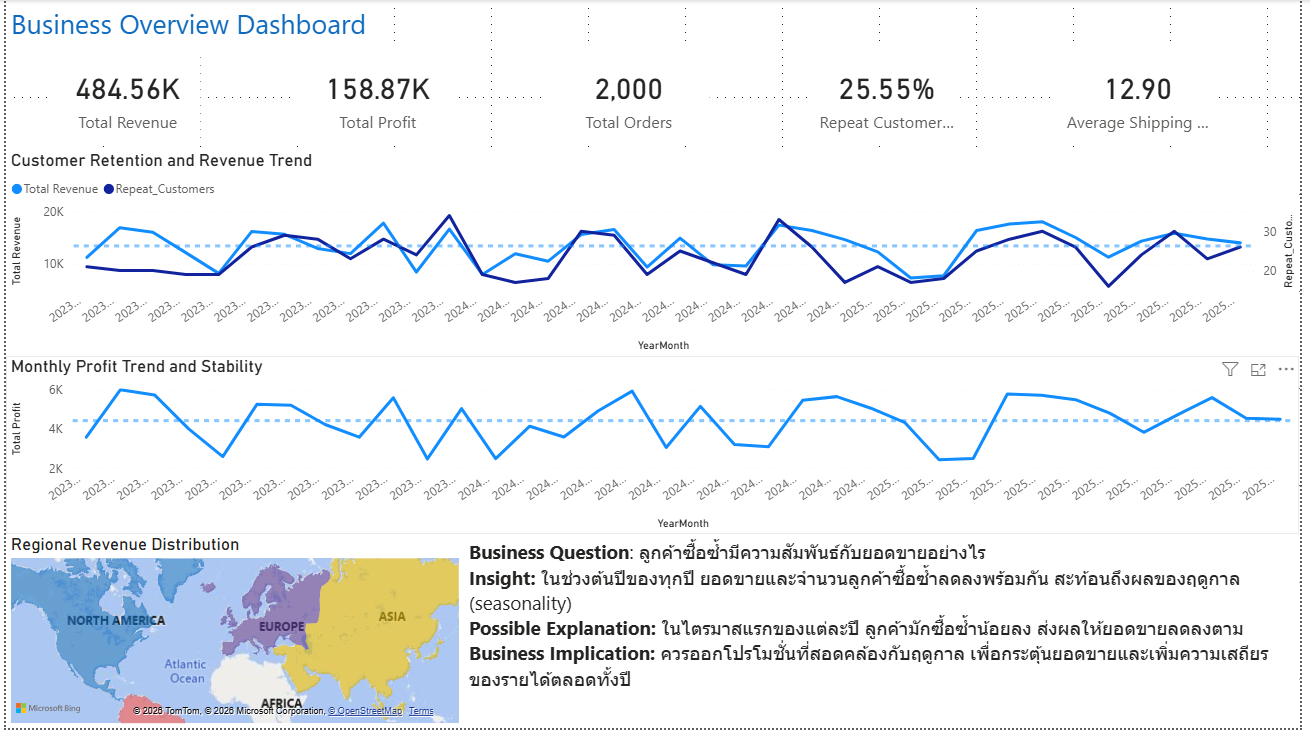

The page's visual inventory and layout, read from the dashboard file:
{"tool":"powerbi","page":{"name":"Business Overview Dashboard","canvas":[1280,720],"ordinal":0},"visuals":[{"type":"card","fields":{"Values":["Measure Table.Total Revenue"]},"box":[48,48,144,96],"z":0},{"type":"lineChart","title":"Customer Retention and Revenue Trend","fields":{"Category":["Dim_Date.YearMonth"],"Y":["Measure Table.Total Revenue"],"Y2":["Measure Table.Repeat_Customers"]},"box":[0,148.3,1279.6,203.8],"z":1000},{"type":"lineChart","title":"Monthly Profit Trend and Stability","fields":{"Category":["Dim_Date.YearMonth"],"Y":["Measure Table.Total Profit"]},"box":[0,352.2,1279.6,176.1],"z":2000},{"type":"filledMap","title":"Regional Revenue Distribution","fields":{"Category":["Dim_Region.Region"]},"box":[0,528.2,453.5,191.8],"z":3000},{"type":"textbox","box":[0,0,365.4,54.3],"z":4000},{"type":"card","fields":{"Values":["Measure Table.Total Profit"]},"box":[288,48,160,96],"z":5000},{"type":"card","fields":{"Values":["Measure Table.Total Orders"]},"box":[536,48,160,96],"z":6000},{"type":"card","fields":{"Values":["Measure Table.Repeat Customer Rate"]},"box":[800,48,144,96],"z":7000},{"type":"card","fields":{"Values":["Measure Table.Average Shipping Cost"]},"box":[1040,48,160,96],"z":8000},{"type":"textbox","box":[453,528,827,192],"z":9000}]}

Visuals, with their boxes in screenshot pixels (x1, y1, x2, y2), scaled from the page's 1280x720 canvas onto the 1310x733 screenshot:
card - Measure Table.Total Revenue: [49, 49, 196, 147]
"Customer Retention and Revenue Trend" lineChart: [0, 151, 1309, 358]
"Monthly Profit Trend and Stability" lineChart: [0, 359, 1309, 538]
"Regional Revenue Distribution" filledMap: [0, 538, 464, 732]
textbox: [0, 0, 374, 55]
card - Measure Table.Total Profit: [295, 49, 458, 147]
card - Measure Table.Total Orders: [549, 49, 712, 147]
card - Measure Table.Repeat Customer Rate: [819, 49, 966, 147]
card - Measure Table.Average Shipping Cost: [1064, 49, 1228, 147]
textbox: [464, 538, 1309, 732]
